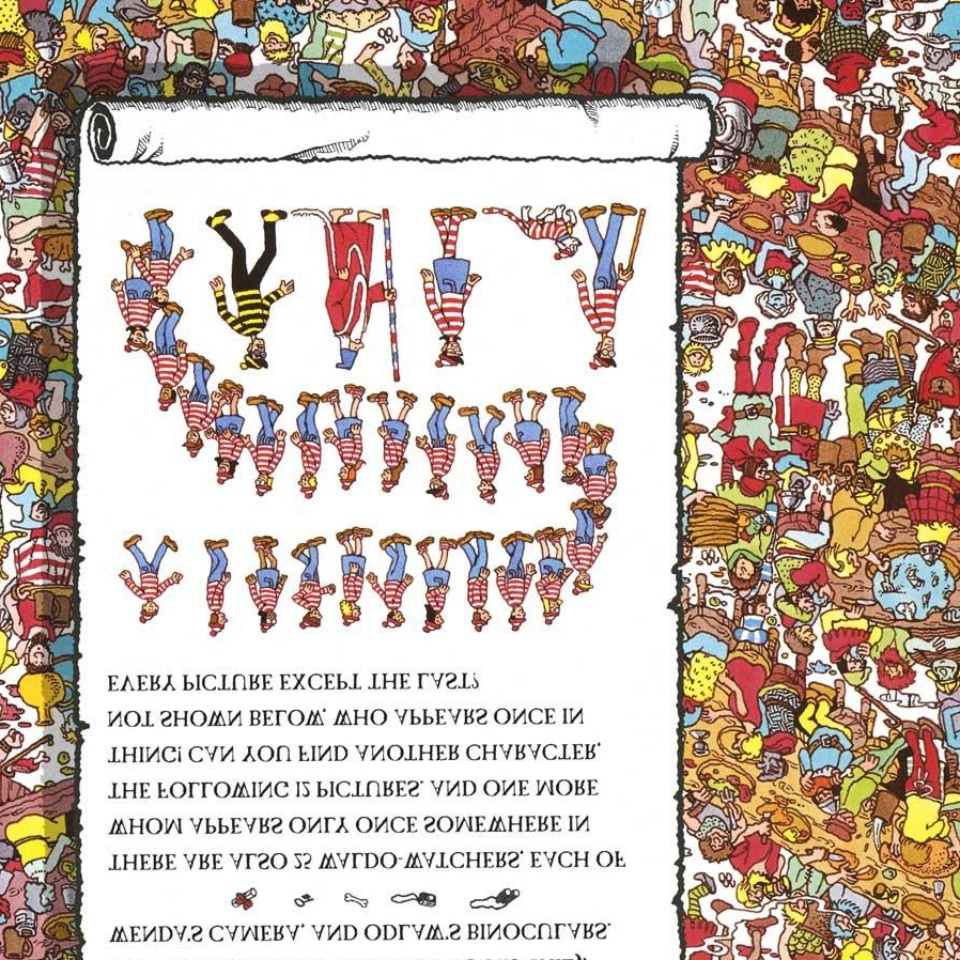waldo: (572, 203, 649, 371)
